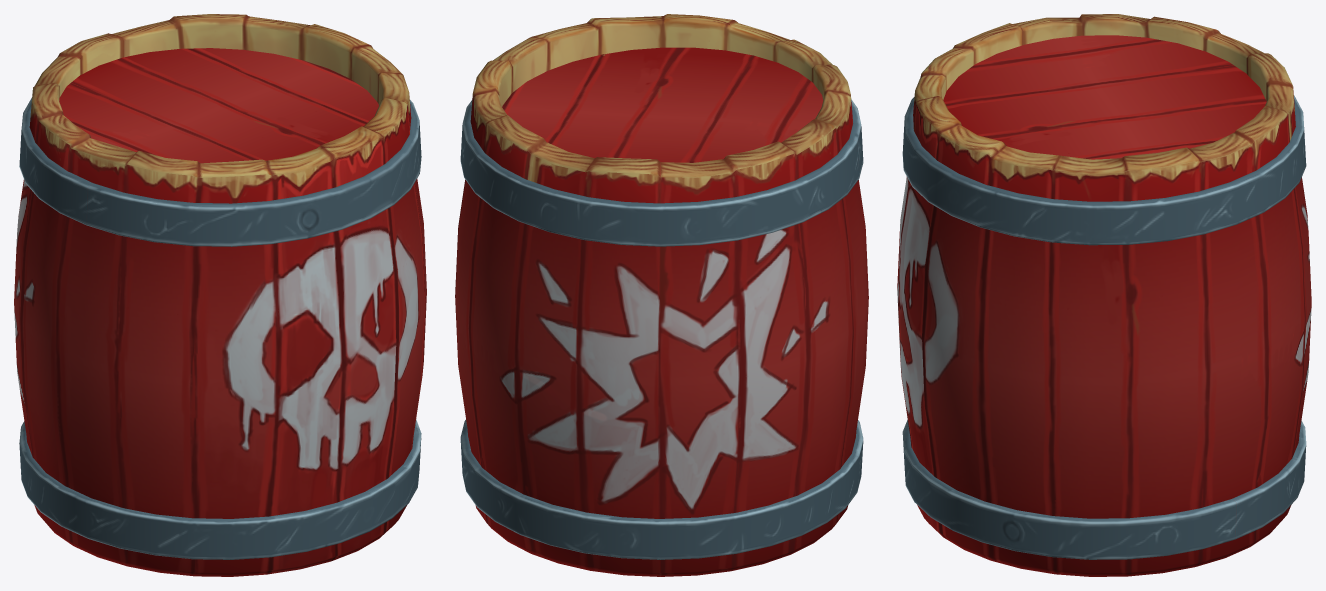
Rendered from explosive_barrel.glb.
The picture shows the model from 3 angles, left to right: view 1: azimuth 30°, elevation 25°; view 2: azimuth 150°, elevation 25°; view 3: azimuth 270°, elevation 25°; orthographic projection.
Visible parts, largest first — view 1: Cylinder.002_2, Cylinder.003_4, Cylinder_1, Cylinder.001_3; view 2: Cylinder.002_2, Cylinder.003_4, Cylinder_1, Cylinder.001_3; view 3: Cylinder.002_2, Cylinder.003_4, Cylinder_1, Cylinder.001_3.
Boxes of the visible parts, bbox=[...] form: Cylinder.002_2: bbox=[14, 14, 426, 576]; Cylinder.003_4: bbox=[59, 48, 378, 163]; Cylinder_1: bbox=[19, 98, 421, 246]; Cylinder.001_3: bbox=[19, 419, 421, 559]; Cylinder.002_2: bbox=[455, 14, 868, 576]; Cylinder.003_4: bbox=[502, 47, 823, 162]; Cylinder_1: bbox=[460, 99, 863, 246]; Cylinder.001_3: bbox=[460, 420, 863, 559]; Cylinder.002_2: bbox=[897, 14, 1311, 576]; Cylinder.003_4: bbox=[943, 35, 1266, 159]; Cylinder_1: bbox=[902, 95, 1306, 245]; Cylinder.001_3: bbox=[902, 420, 1306, 559].
Size of the model in its own units: 2.07 by 2.29 by 2.07.
Materials: 2 (2 with a texture image).
